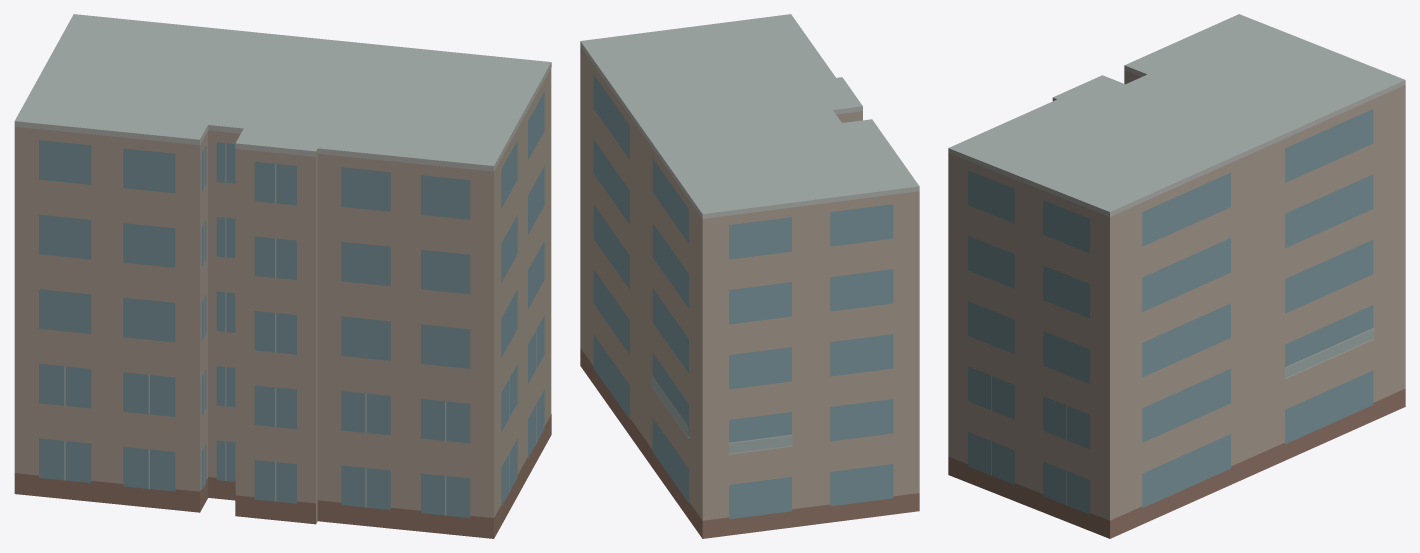
The model's file is survey-upis-32954723.glb.
The picture shows the model from 3 angles, left to right: view 1: azimuth 30°, elevation 25°; view 2: azimuth 150°, elevation 25°; view 3: azimuth 270°, elevation 25°; orthographic projection. The views are drawn at different scales.
Visible parts, largest first — view 1: survey-upis-32954723.tmp; view 2: survey-upis-32954723.tmp; view 3: survey-upis-32954723.tmp.
Boxes of the visible parts, box(x1,y1,x2,y2) form: survey-upis-32954723.tmp: box(14, 14, 551, 538); survey-upis-32954723.tmp: box(580, 14, 919, 538); survey-upis-32954723.tmp: box(948, 14, 1405, 538).
Size of the model in its own units: 21.53 by 16.55 by 21.
